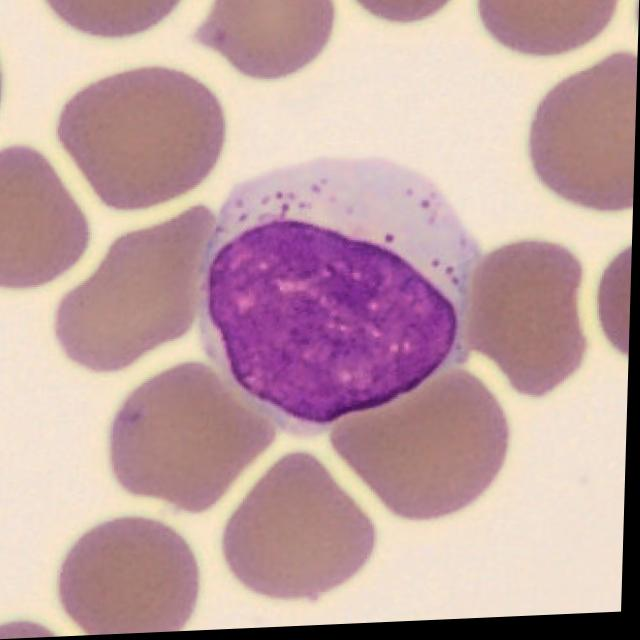Linfocito atipico: (204, 161, 482, 430)
